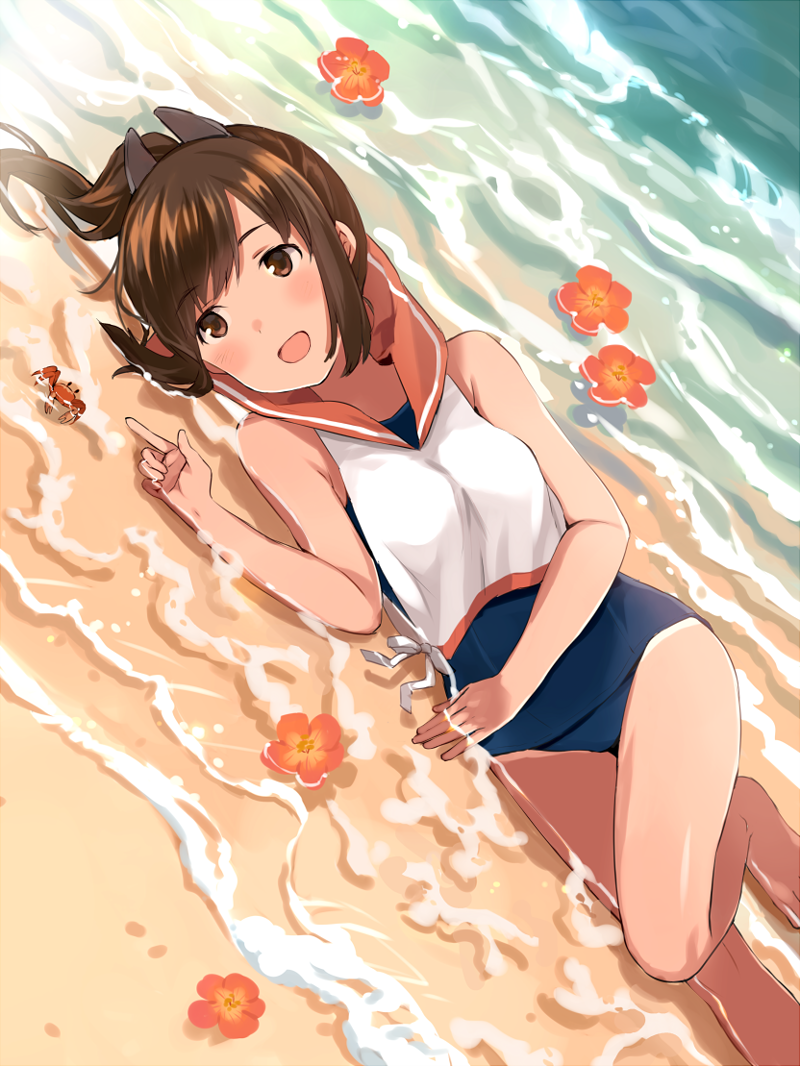纸片人正脸: (91, 119, 372, 408)
